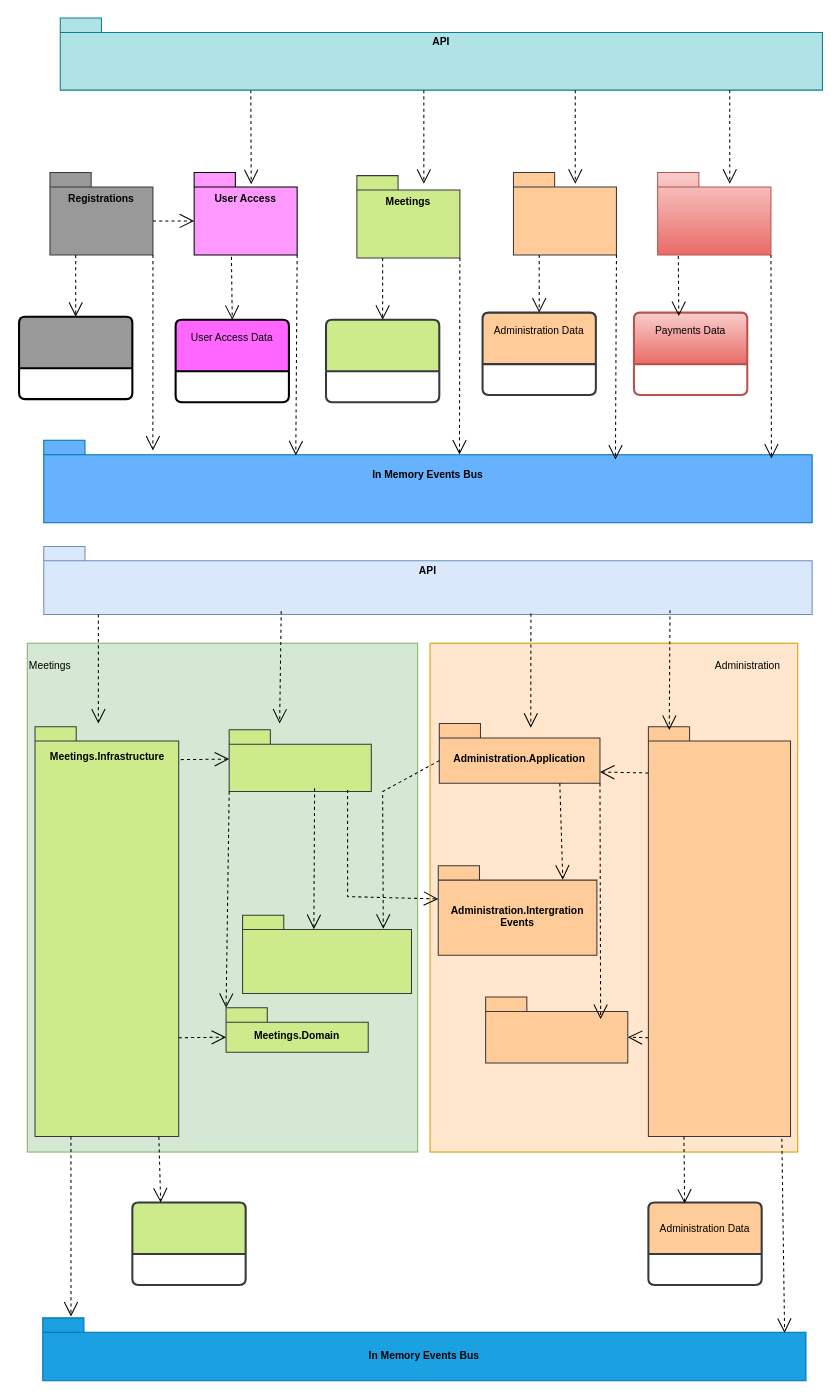
The diagram is 840 pixels wide and 1399 high, and some of its shapes have lost their labels. Here are the shapes that lost their labels. From the top down, the centre of each, then its label:
At point 564,213: "Administrations".
At point 714,213: "Payments".
At point 75,357: "Registration Data".
At point 382,360: "Meetings Data".
At point 299,760: "Meetings.Application".
At point 719,931: "Administration.Infrastructure".
At point 326,953: "Meetings.IntergrationEvents".
At point 556,1029: "Administration.Domain".
At point 188,1243: "Meeting Data".
